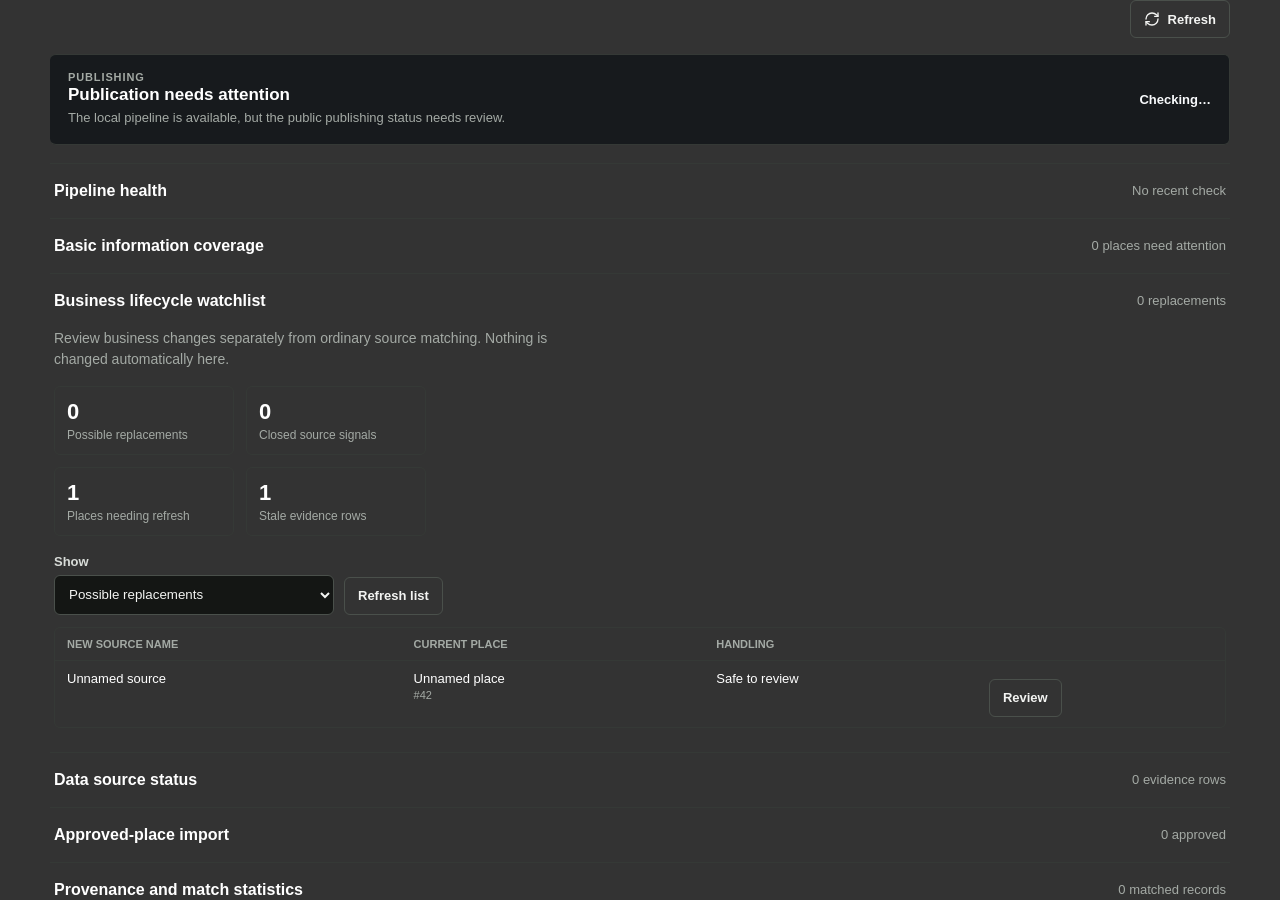
Test: AdminSystemPanel lifecycle actions › explains that lifecycle decisions publish through the guarded sync
Select "Closed source signals" in the dropdown at (194, 595), box [54, 575, 334, 615]
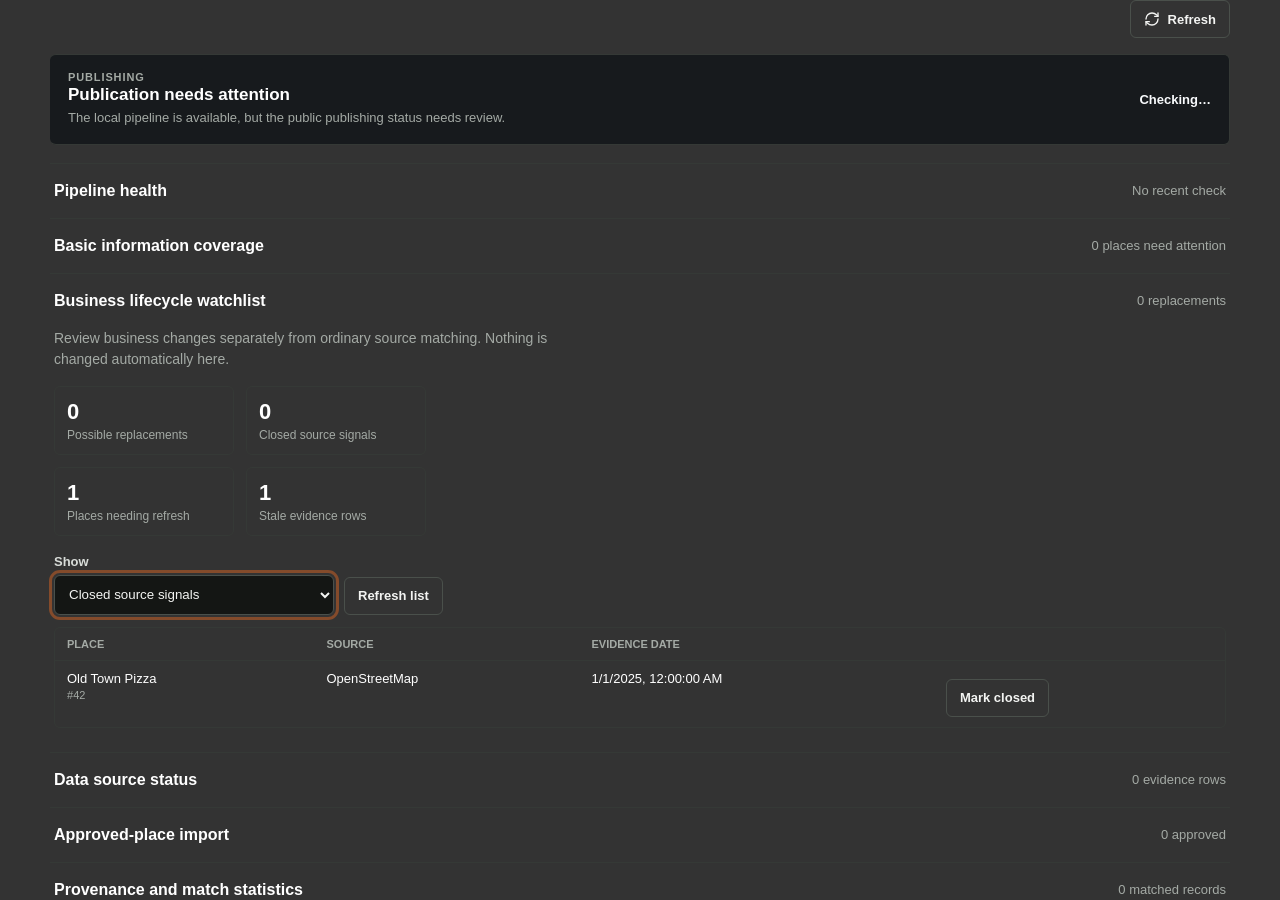
Click the button "Mark closed".
click(998, 698)  # box [946, 679, 1049, 717]
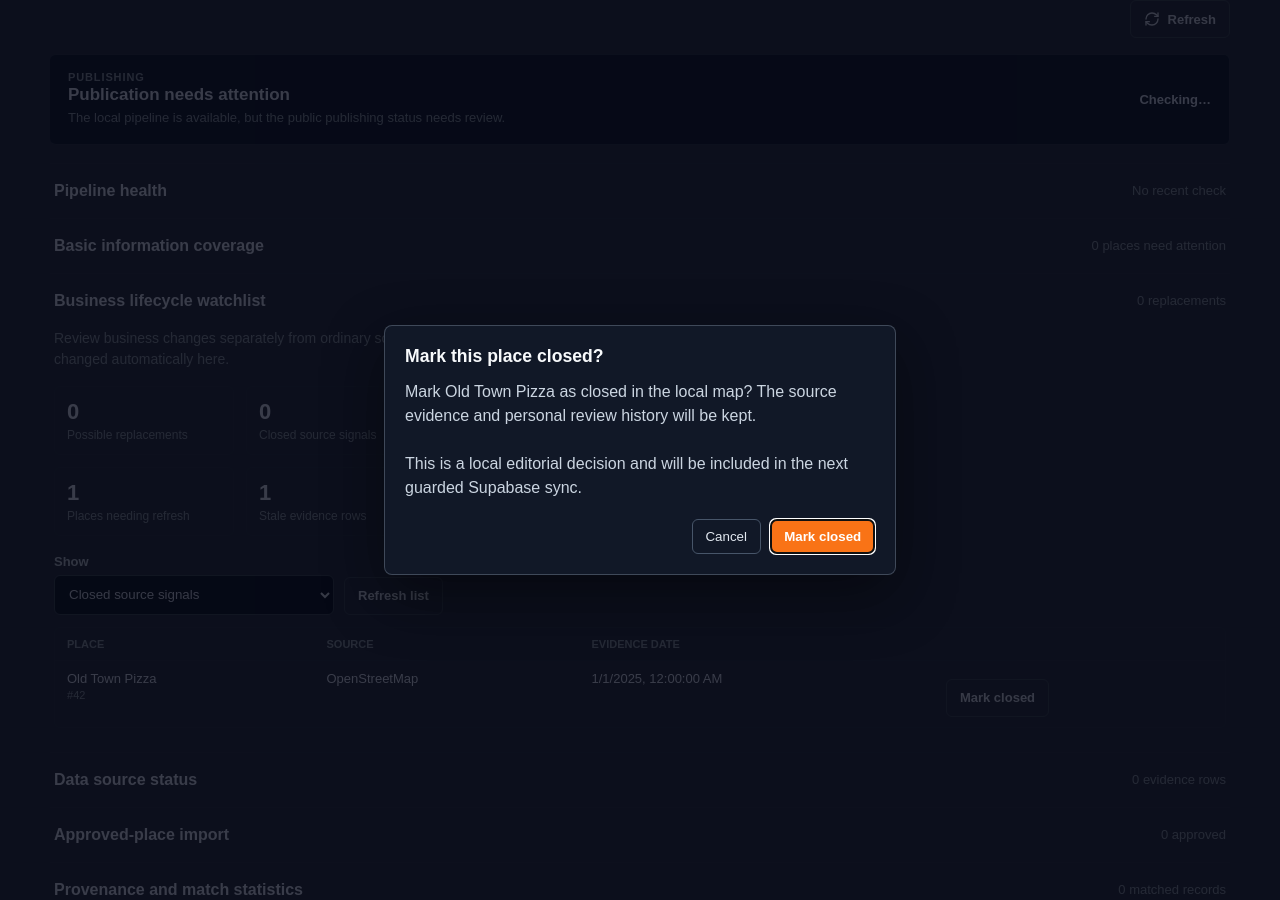
Expected: the text "included in the next guarded supabase sync" is shown, [405, 383, 848, 496]
